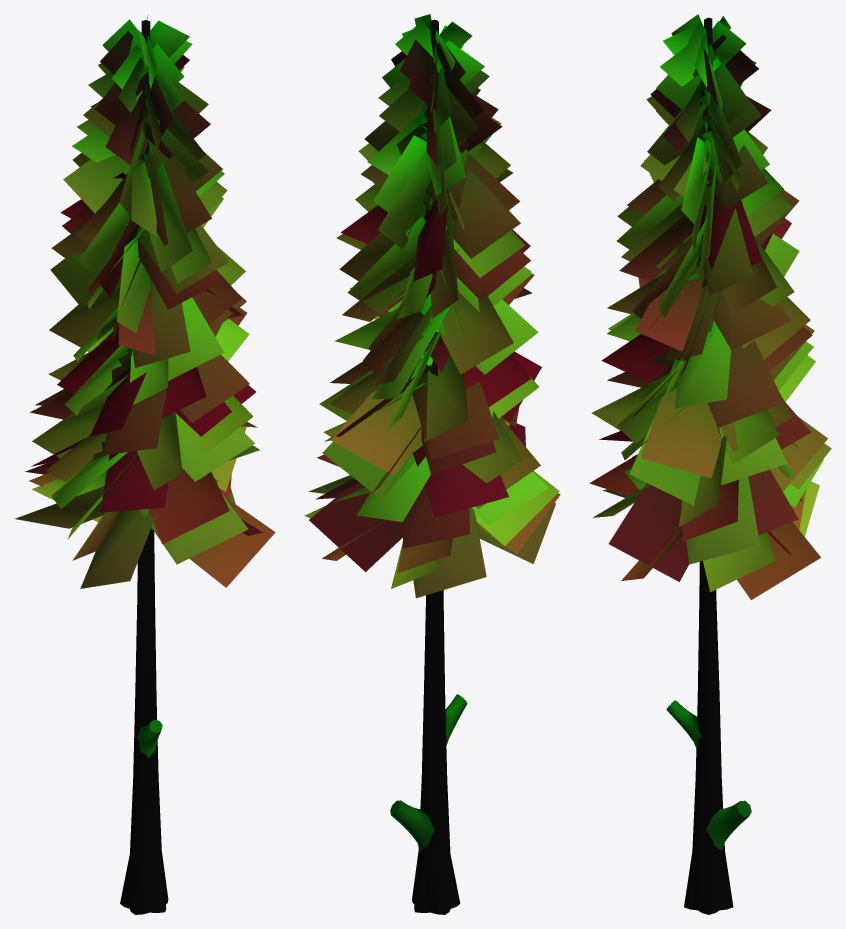
Rendered from M_Pine_2_7.fbx.
3 views of the same model, side by side, from view 1: azimuth 30°, elevation 25°; view 2: azimuth 150°, elevation 25°; view 3: azimuth 270°, elevation 25° (orthographic).
Visible parts, largest first — view 1: Tree_7; view 2: Tree_7; view 3: Tree_7.
Boxes of the visible parts, bbox=[...] form: Tree_7: bbox=[15, 15, 275, 914]; Tree_7: bbox=[304, 14, 560, 914]; Tree_7: bbox=[589, 14, 831, 914].
Size of the model in its own units: 746 by 3009 by 747.
